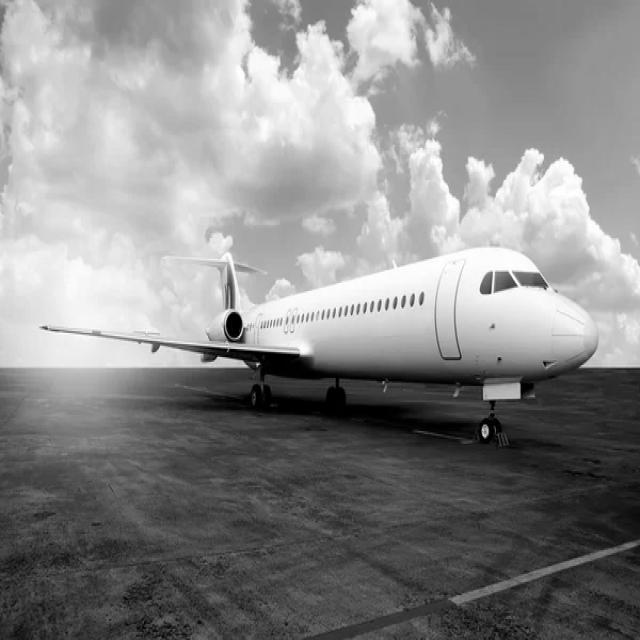Aircraft: (29, 239, 612, 455)
